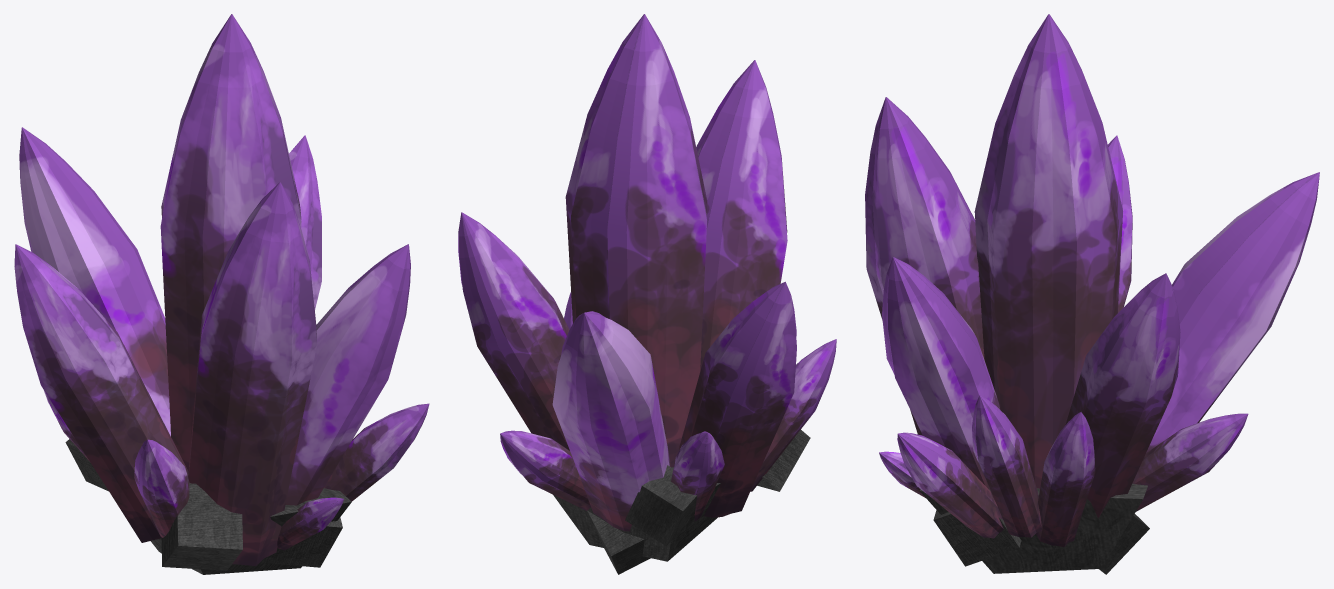
Rendered from Amethyst.fbx.
3 renders of one model, left to right at view 1: azimuth 30°, elevation 25°; view 2: azimuth 150°, elevation 25°; view 3: azimuth 270°, elevation 25°, orthographic. The views are drawn at different scales.
Parts seen in each view (by area): view 1: pCylinder26, pCube6; view 2: pCylinder26, pCube6; view 3: pCylinder26, pCube6.
Part boxes in pixels (x1,y1,x2,y2): pCylinder26: (14,14,429,565); pCube6: (65,439,351,574); pCylinder26: (458,14,836,531); pCube6: (553,430,810,574); pCylinder26: (865,14,1319,547); pCube6: (920,483,1149,574).
Size of the model in its own units: 45.27 by 75.57 by 55.5.
